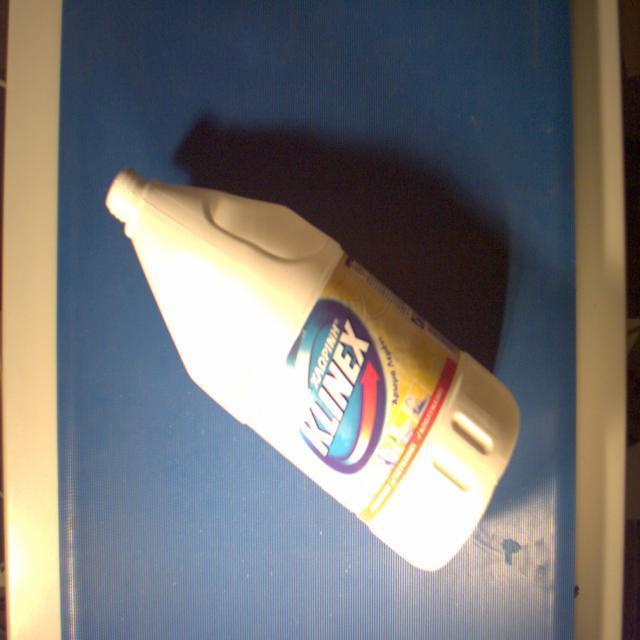HDPE Plastic: (100, 164, 526, 576)
